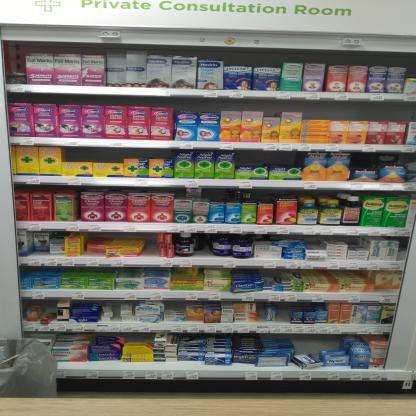Void: (64, 149, 122, 163), (294, 334, 338, 351), (236, 152, 296, 164), (130, 148, 173, 158), (354, 153, 368, 167)
